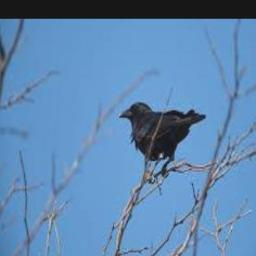Crow: (117, 101, 205, 177)
